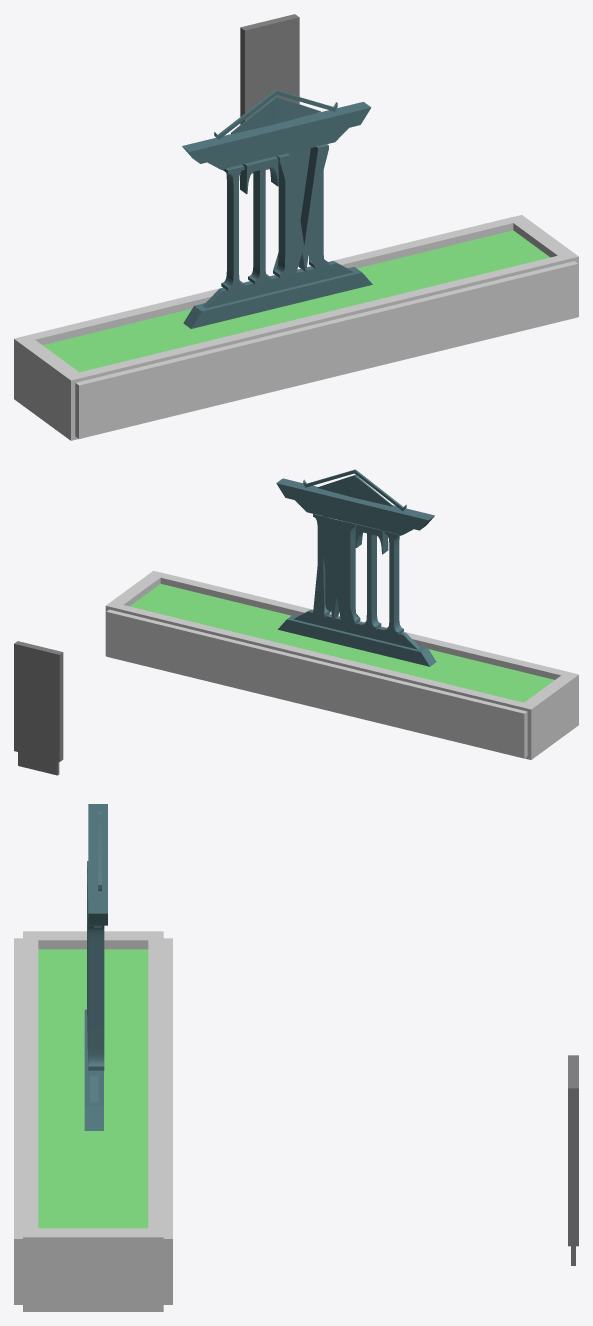
File: RUANGAN10_GABUNGAN.fbx
3 renders of one model, top to bottom at view 1: azimuth 30°, elevation 25°; view 2: azimuth 150°, elevation 25°; view 3: azimuth 270°, elevation 25°, orthographic. The views are drawn at different scales.
Parts seen in each view (by area): view 1: pCube540, LOGOMTI, INITENTANGTIAMH; view 2: pCube540, LOGOMTI, INITENTANGTIAMH; view 3: pCube540, LOGOMTI, INITENTANGTIAMH.
Part boxes in pixels (x1,y1,x2,y2): pCube540: (14, 215, 578, 440); LOGOMTI: (182, 90, 372, 328); INITENTANGTIAMH: (240, 14, 299, 173); pCube540: (105, 571, 578, 759); LOGOMTI: (276, 469, 436, 666); INITENTANGTIAMH: (14, 641, 63, 775); pCube540: (14, 931, 172, 1311); LOGOMTI: (84, 804, 107, 1130); INITENTANGTIAMH: (568, 1055, 578, 1265).
Bounding box in the file's own units: 15.73 × 7.99 × 12.27.
